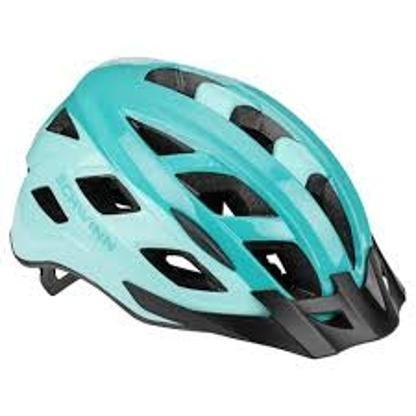not trash: (7, 58, 406, 360)
